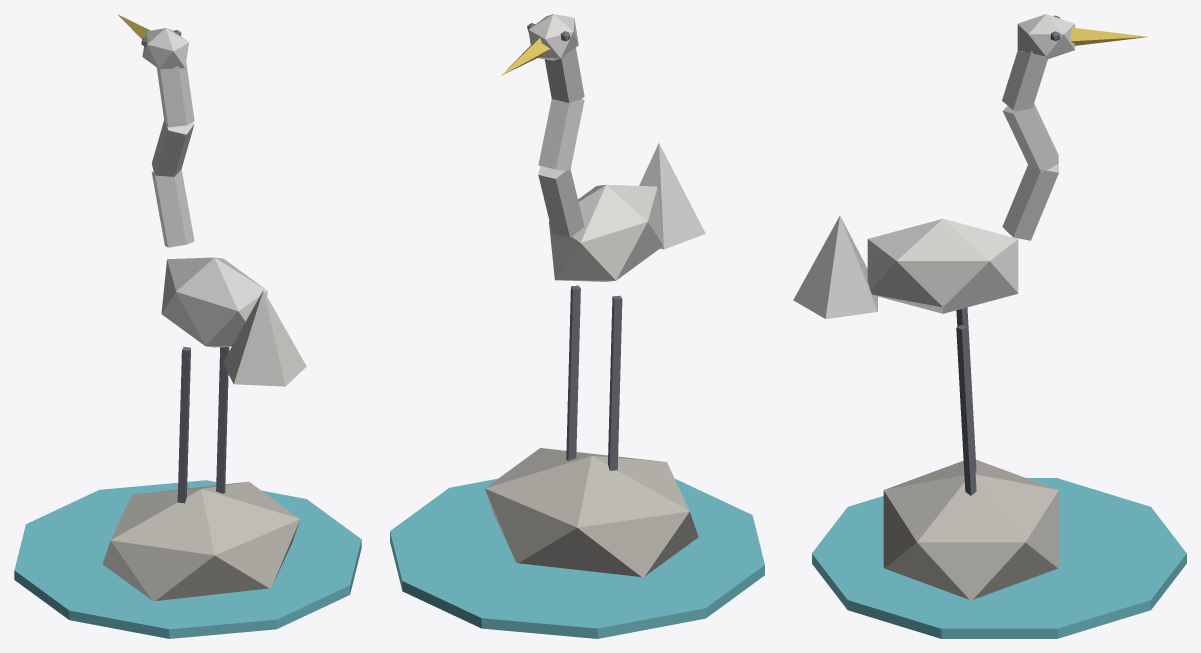
The model's file is beira_rio__garca.glb.
The picture shows the model from 3 angles, left to right: view 1: azimuth 30°, elevation 25°; view 2: azimuth 150°, elevation 25°; view 3: azimuth 270°, elevation 25°; orthographic projection. The views are drawn at different scales.
Parts seen in each view (by area): view 1: beira_rio__garca; view 2: beira_rio__garca; view 3: beira_rio__garca.
Boxes of the visible parts, box(x1,y1,x2,y2) form: beira_rio__garca: box(14, 14, 361, 638); beira_rio__garca: box(390, 14, 764, 638); beira_rio__garca: box(793, 14, 1186, 638).
Bounding box in the file's own units: 0.3804 × 0.673 × 0.42.
